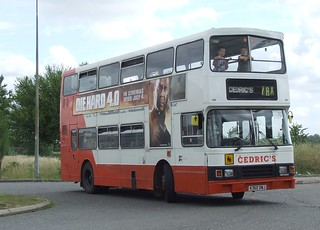bus: (56, 26, 294, 202)
